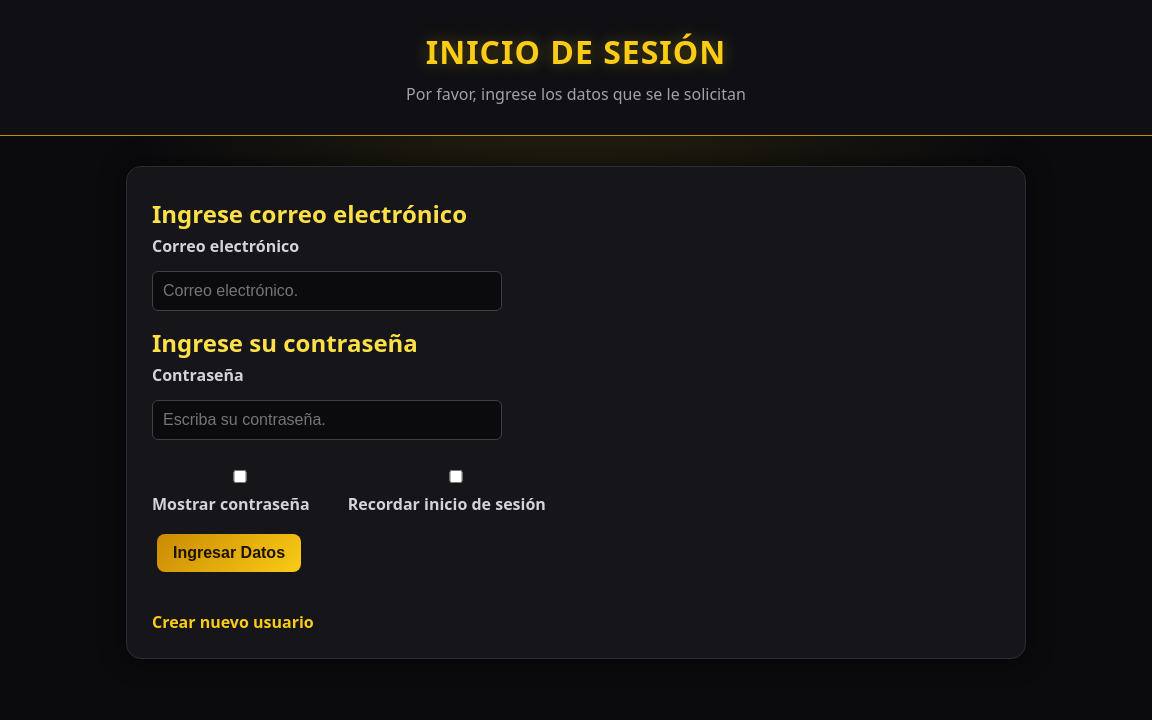
Componente Login › muestra error con credenciales incorrectas
This screenshot has width=1152, height=720.
In the field with placeholder "Correo electrónico.": x=327, y=291 [152,271,502,311], type "test@gmail.com"
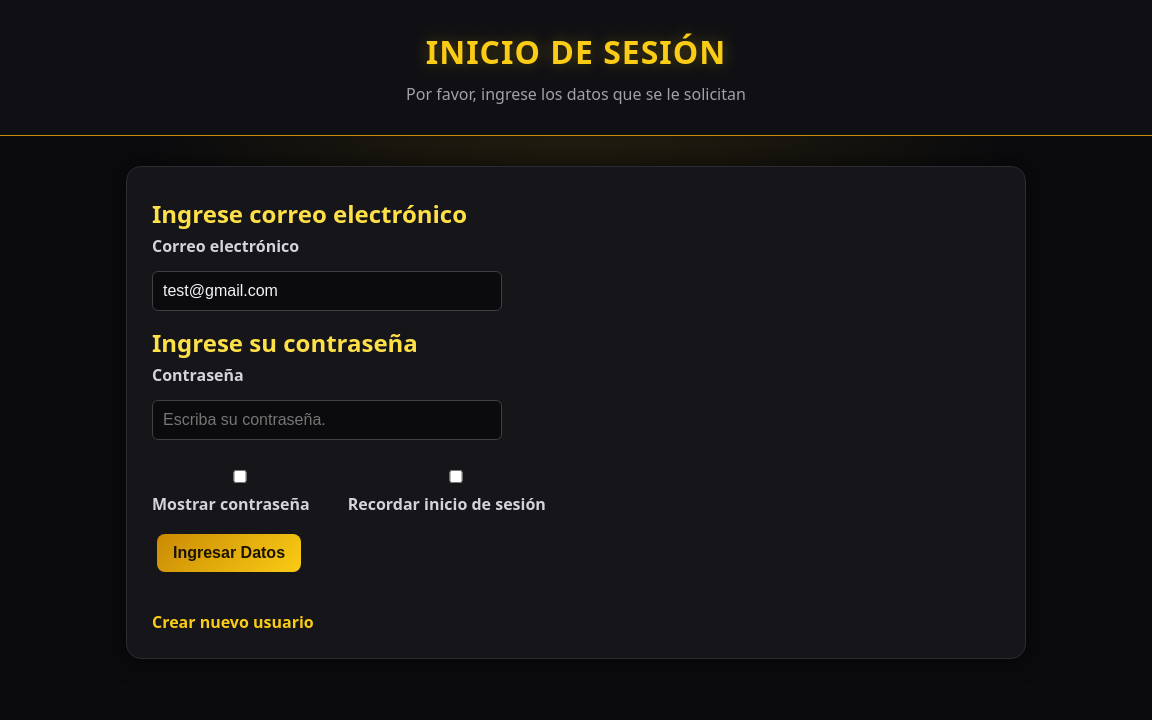
In the password field with placeholder "Escriba su contraseña.": x=327, y=420 [152,400,502,440], type "12345678"
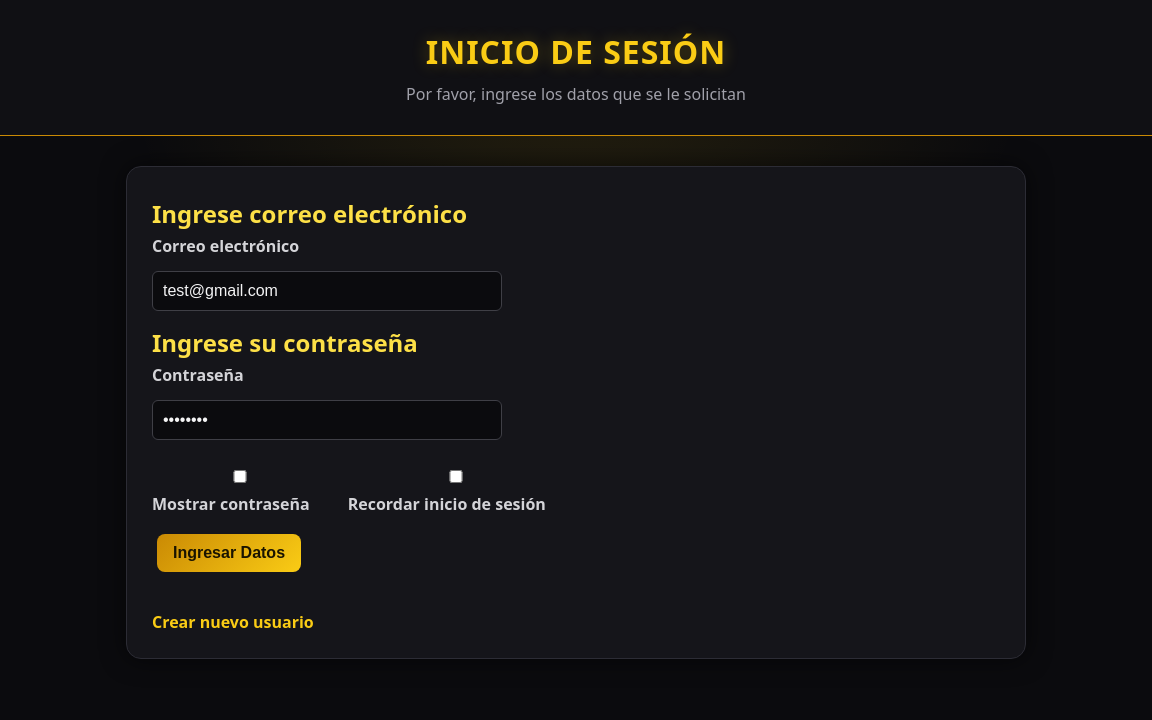
Click the button "Ingresar Datos": x=229, y=553 [157,534,301,572]
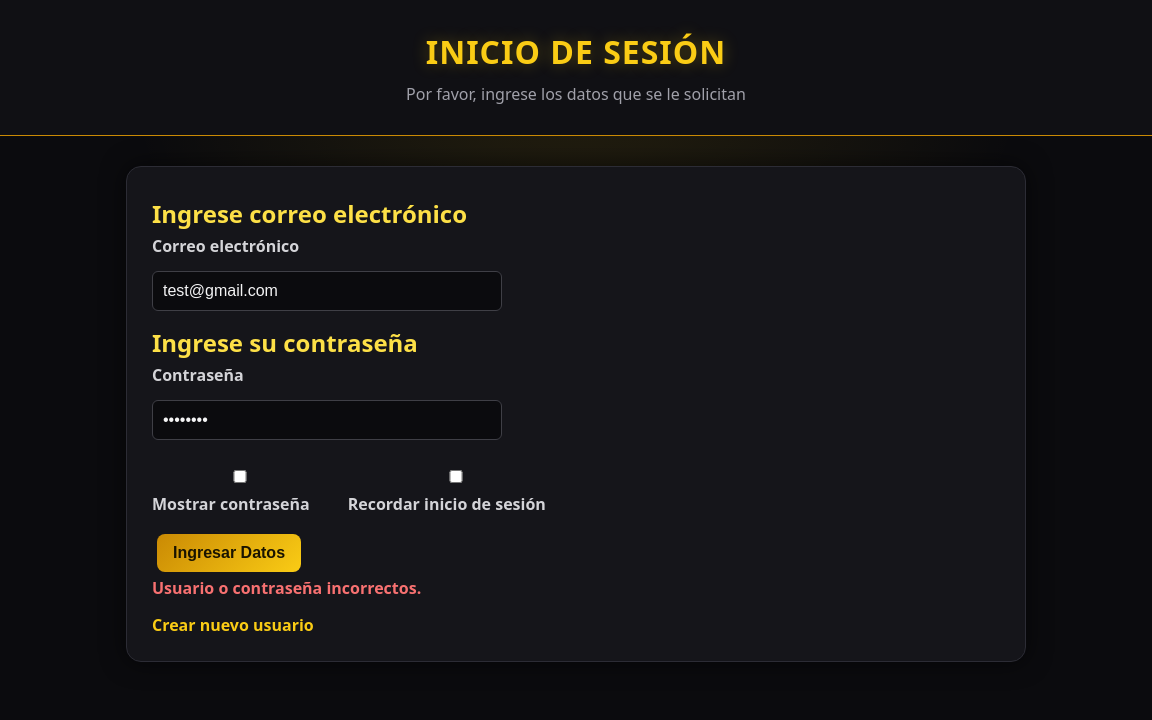
expect the text "Usuario o contraseña incorrectos." is shown: met, box [152,577,421,599]
